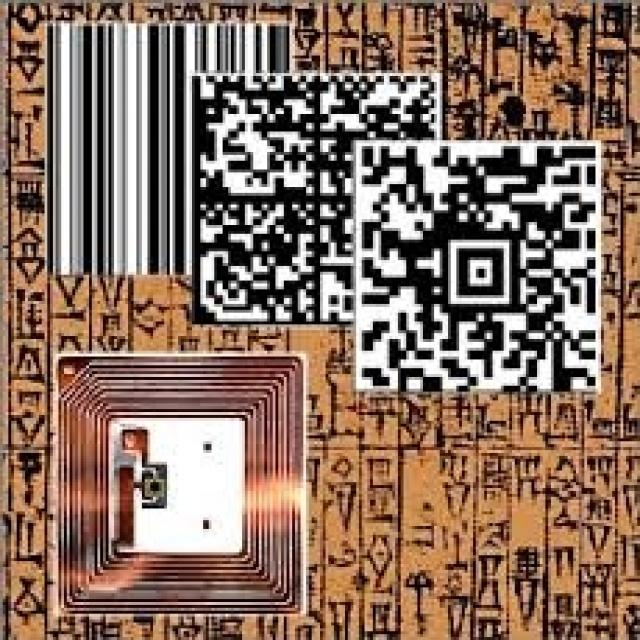DataMatrix: (187, 68, 454, 328)
